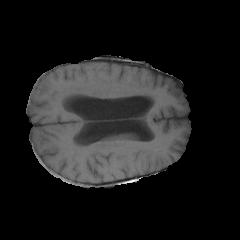glioma: (58, 76, 156, 99)
